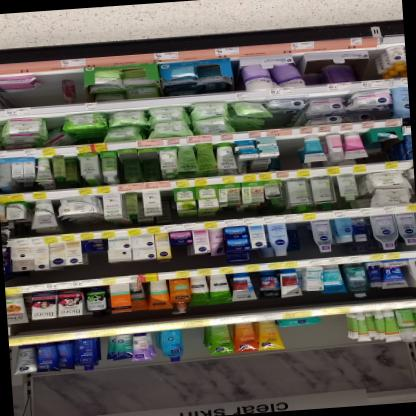empty_space: (279, 135, 302, 167), (321, 311, 344, 339), (181, 325, 201, 354)
